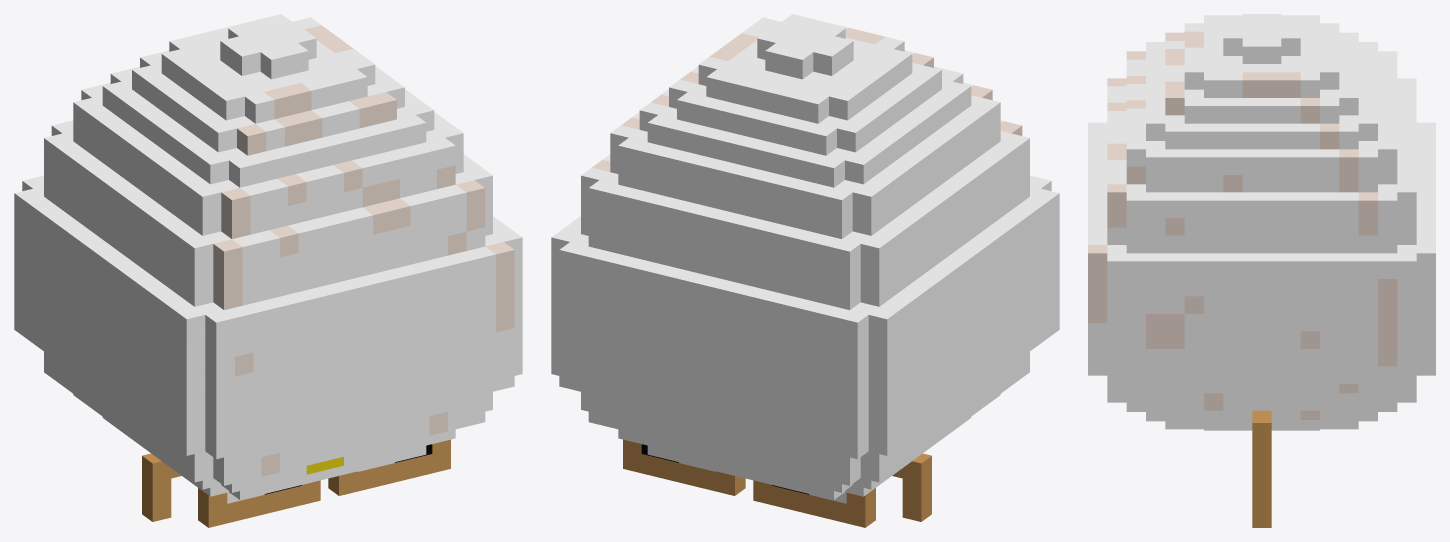
Rendered from egg.glb.
3 renders of one model, left to right at view 1: azimuth 30°, elevation 25°; view 2: azimuth 150°, elevation 25°; view 3: azimuth 270°, elevation 25°, orthographic. The views are drawn at different scales.
Parts seen in each view (by area): view 1: base, glasses; view 2: base, glasses; view 3: base, glasses.
Boxes of the visible parts, left/top/right/bottom form: base: left=14, top=14, right=522, bottom=499; glasses: left=142, top=439, right=450, bottom=527; base: left=551, top=14, right=1059, bottom=499; glasses: left=623, top=439, right=931, bottom=527; base: left=1088, top=14, right=1435, bottom=430; glasses: left=1252, top=410, right=1271, bottom=527.
Bounding box in the file's own units: 18.5 × 24 × 18.
8 materials, 8 textured.
